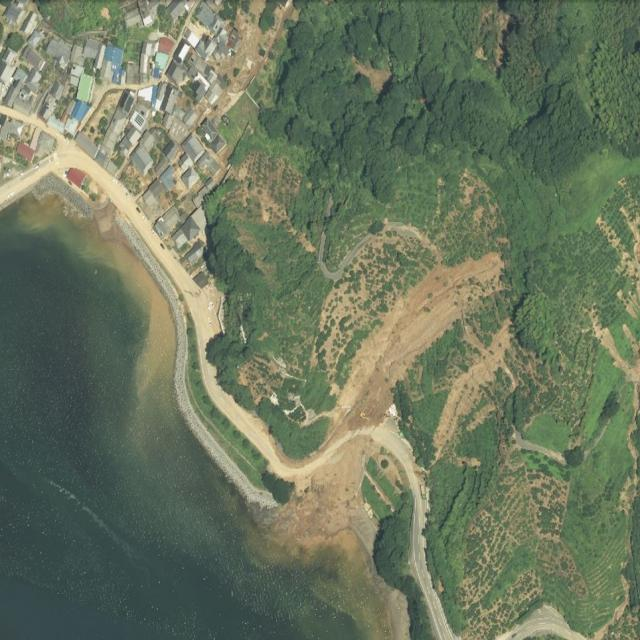landslide: (331, 253, 504, 440)
